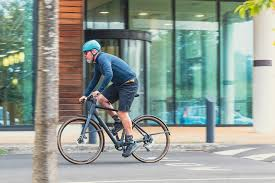Bicycle: (56, 99, 172, 165)
